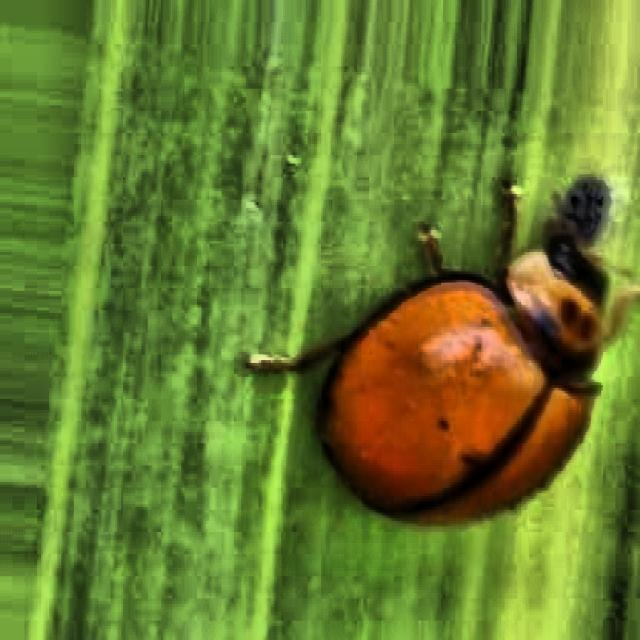Ladybug: (260, 150, 632, 583)
